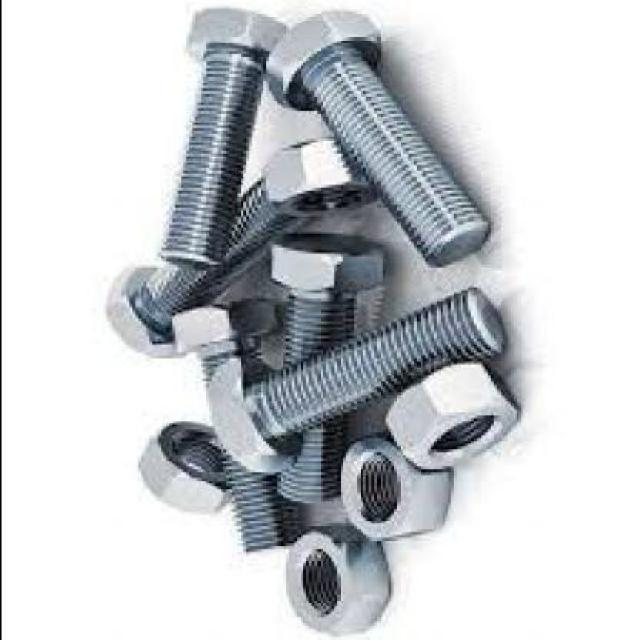METAL: (258, 15, 490, 270), (202, 290, 506, 478), (100, 148, 302, 364), (148, 12, 284, 273), (164, 293, 290, 572), (264, 236, 387, 507), (379, 366, 515, 476), (332, 435, 450, 543), (282, 532, 389, 637), (133, 422, 224, 526), (267, 139, 378, 219)
